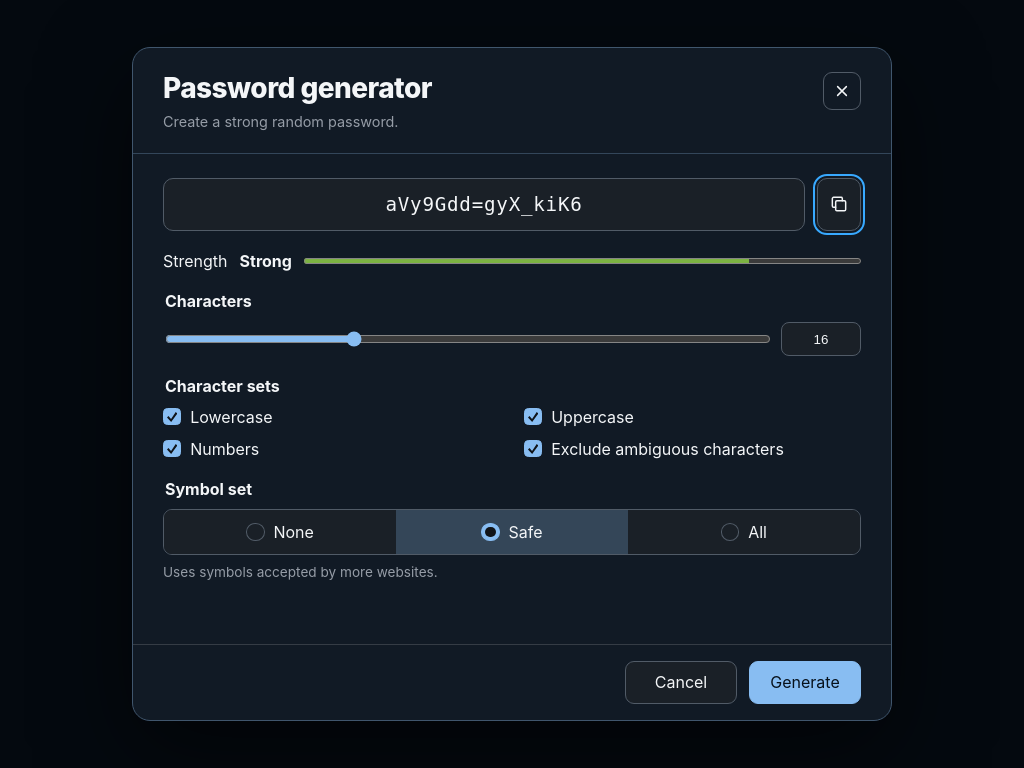
it: PasswordGeneratorDialog › reports clipboard failures without exposing the generated password
Click the button named "Copy password".
click(839, 204)  # box x1=817 y1=178 x2=861 y2=231
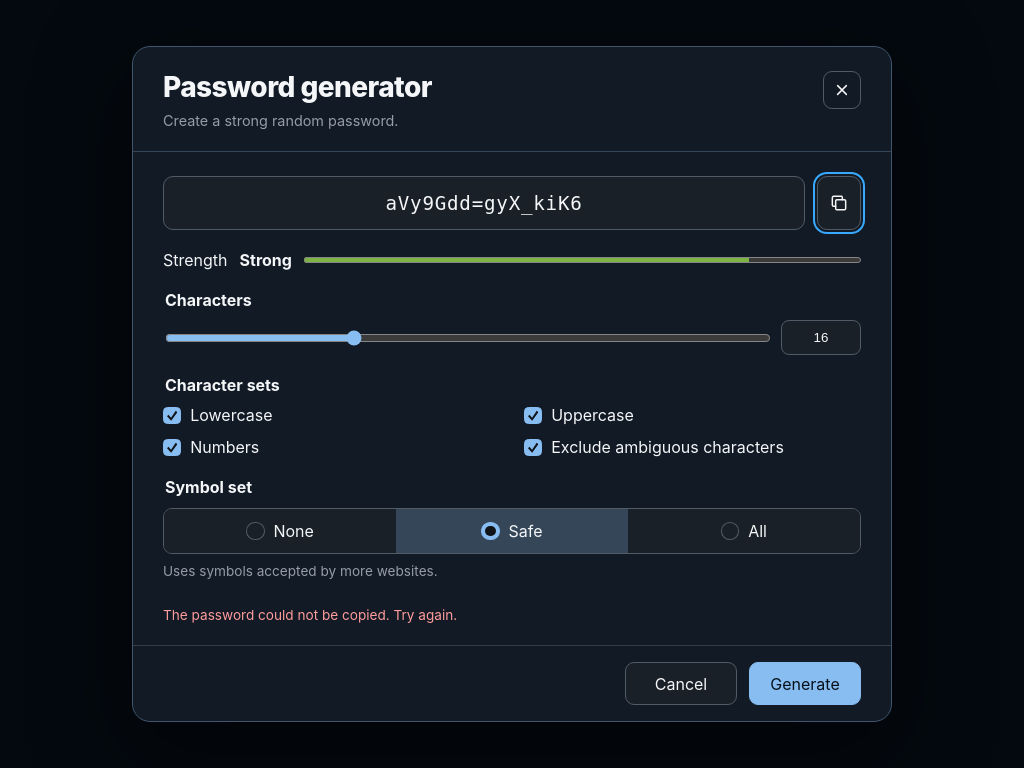
Now the message reads "The password could not be copied. Try again.", box x1=163 y1=607 x2=457 y2=623
